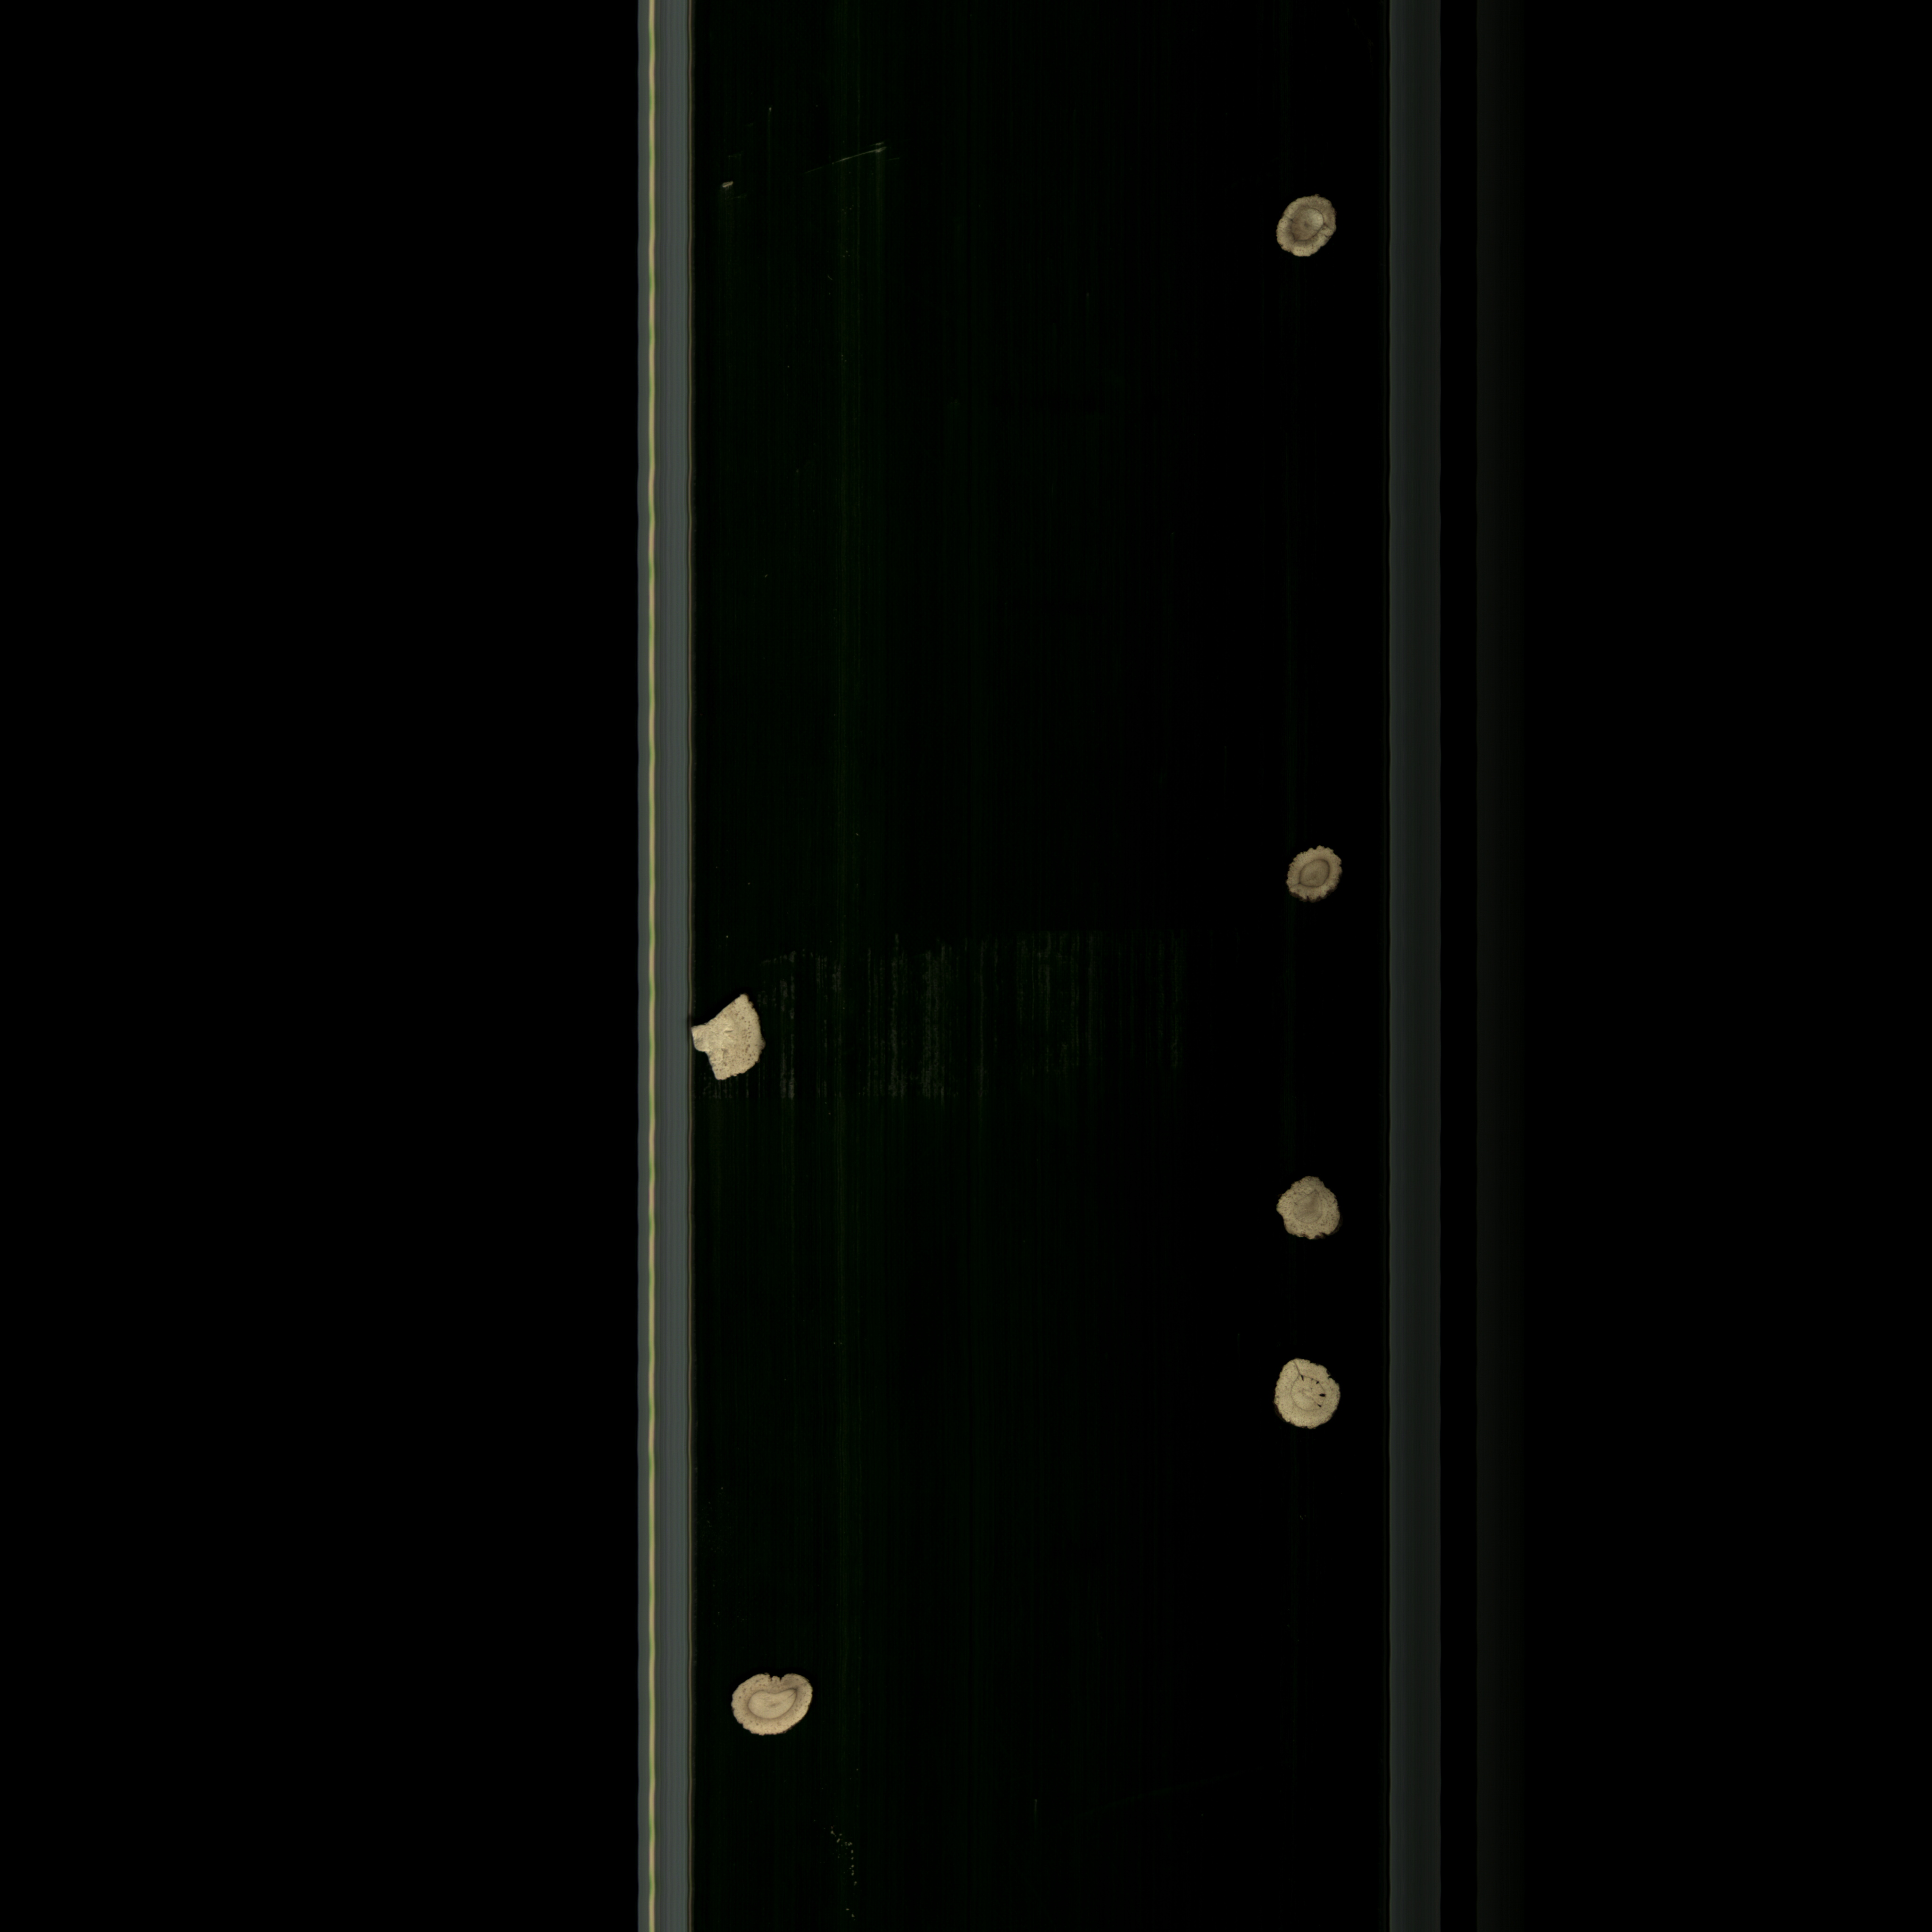debris: (685, 989, 773, 1092)
distortion: (722, 1670, 826, 1743)
hole: (1265, 1353, 1353, 1438)
moldy: (1261, 184, 1346, 276), (1270, 1173, 1353, 1249), (1277, 839, 1353, 908)
